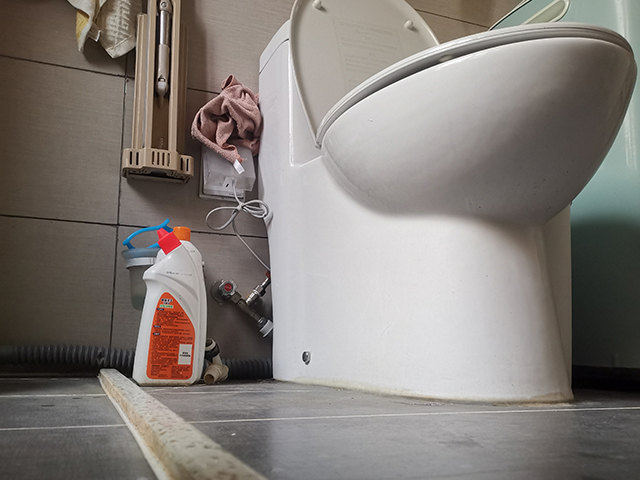closestool: (256, 1, 640, 404)
